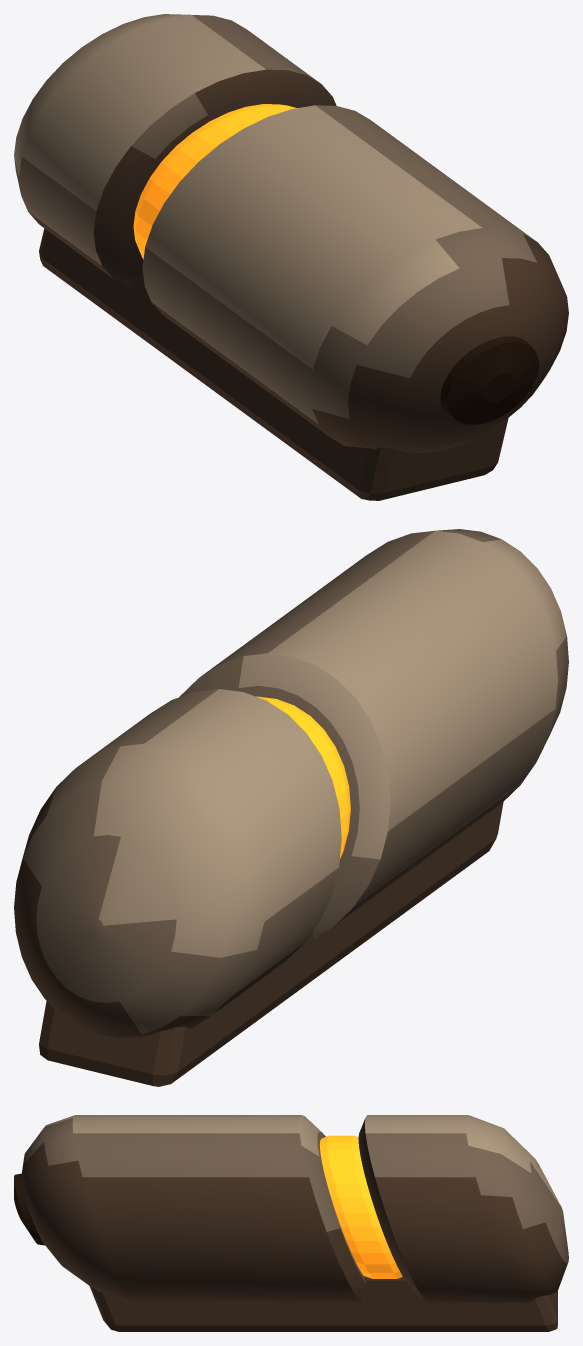
The model's file is rig_gun_post.glb.
3 views of the same model, one above another, from view 1: azimuth 30°, elevation 25°; view 2: azimuth 150°, elevation 25°; view 3: azimuth 270°, elevation 25° (orthographic). The views are drawn at different scales.
Parts seen in each view (by area): view 1: rig_gun_post; view 2: rig_gun_post; view 3: rig_gun_post.
Part boxes in pixels (box(x1,y1,x2,y2)): rig_gun_post: box(14, 14, 568, 500); rig_gun_post: box(14, 529, 568, 1086); rig_gun_post: box(14, 1115, 568, 1331).
Size of the model in its own units: 9.2 by 10.2 by 26.97.
